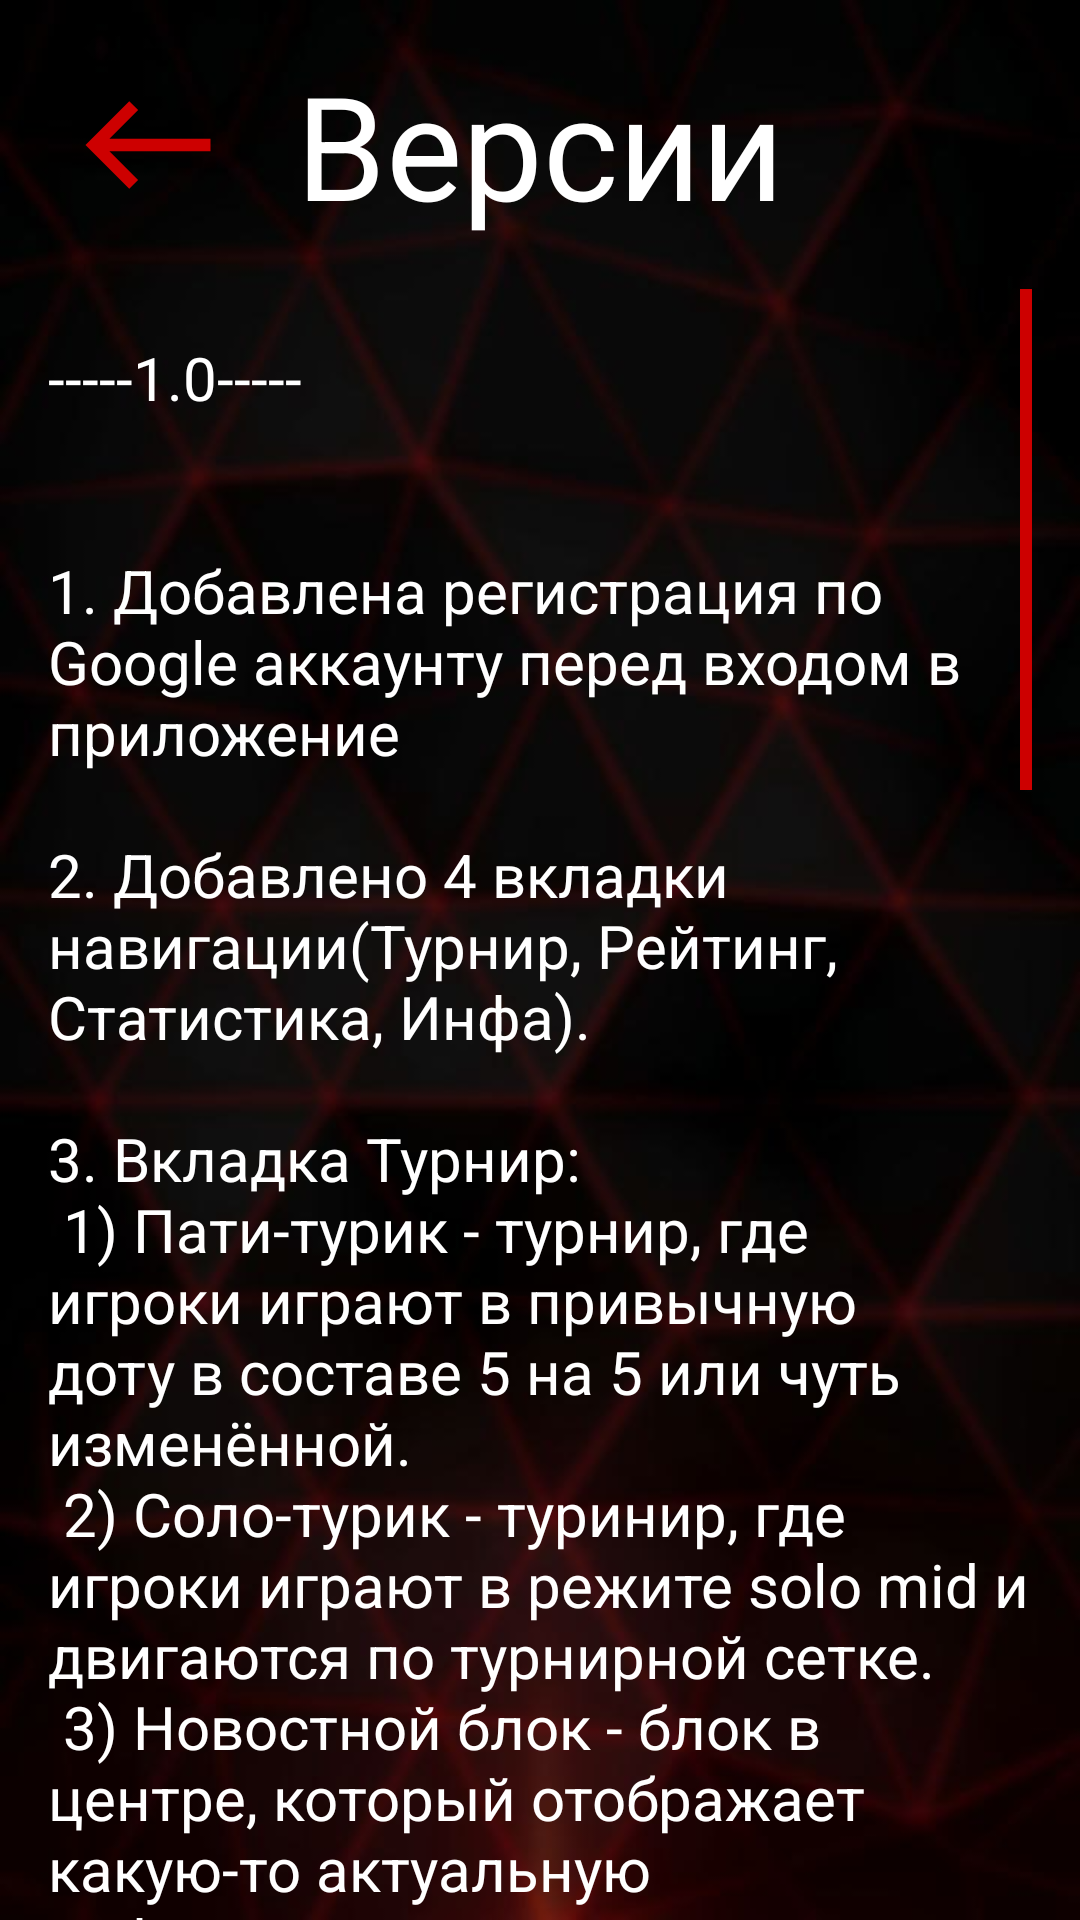

Named icons in this screenshot (1080px×1920px) and their bounding boxes, (x1, y1, x2, y2):
west: (85, 101, 211, 189)
